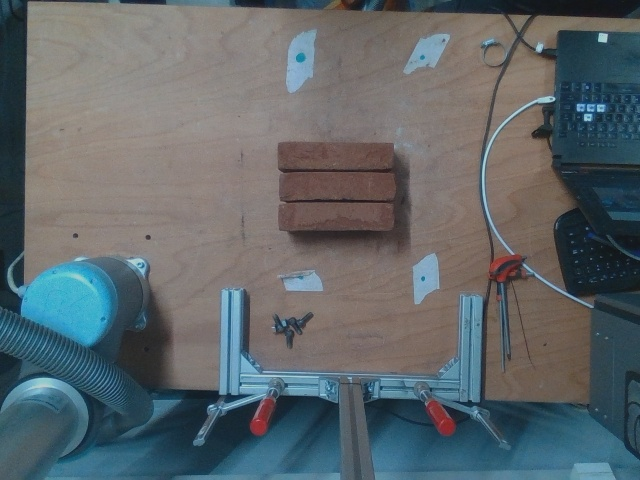brick-side: (280, 173, 398, 202), (279, 141, 397, 170), (278, 200, 396, 229)
